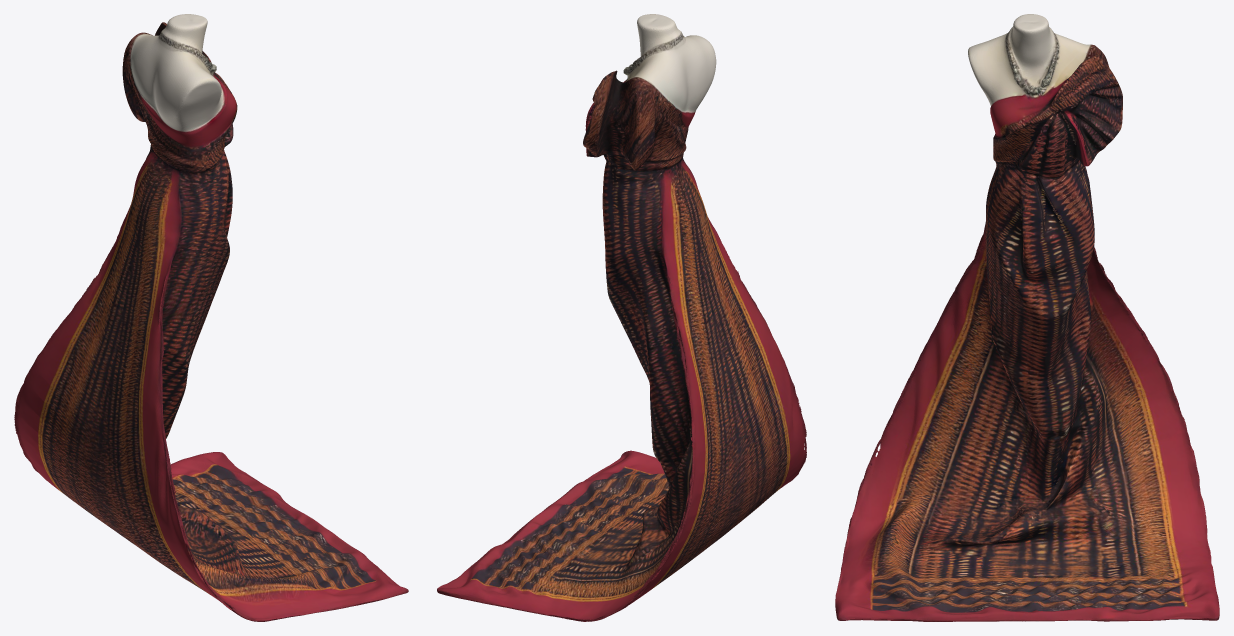
File: thai_silk_pattern_4_owWTJ2m.glb
The picture shows the model from 3 angles, left to right: view 1: azimuth 30°, elevation 25°; view 2: azimuth 150°, elevation 25°; view 3: azimuth 270°, elevation 25°; orthographic projection.
Parts seen in each view (by area): view 1: tripo_node_9fd5ab6f-6fa7-4590-9374-4bc7da7ec8df; view 2: tripo_node_9fd5ab6f-6fa7-4590-9374-4bc7da7ec8df; view 3: tripo_node_9fd5ab6f-6fa7-4590-9374-4bc7da7ec8df.
Part boxes in pixels (x1,y1,x2,y2): tripo_node_9fd5ab6f-6fa7-4590-9374-4bc7da7ec8df: (14,14,408,621); tripo_node_9fd5ab6f-6fa7-4590-9374-4bc7da7ec8df: (437,14,806,621); tripo_node_9fd5ab6f-6fa7-4590-9374-4bc7da7ec8df: (835,14,1219,621).
Bounding box in the file's own units: 0.4552 × 0.9999 × 0.648.
Materials: 1 (1 with a texture image).
